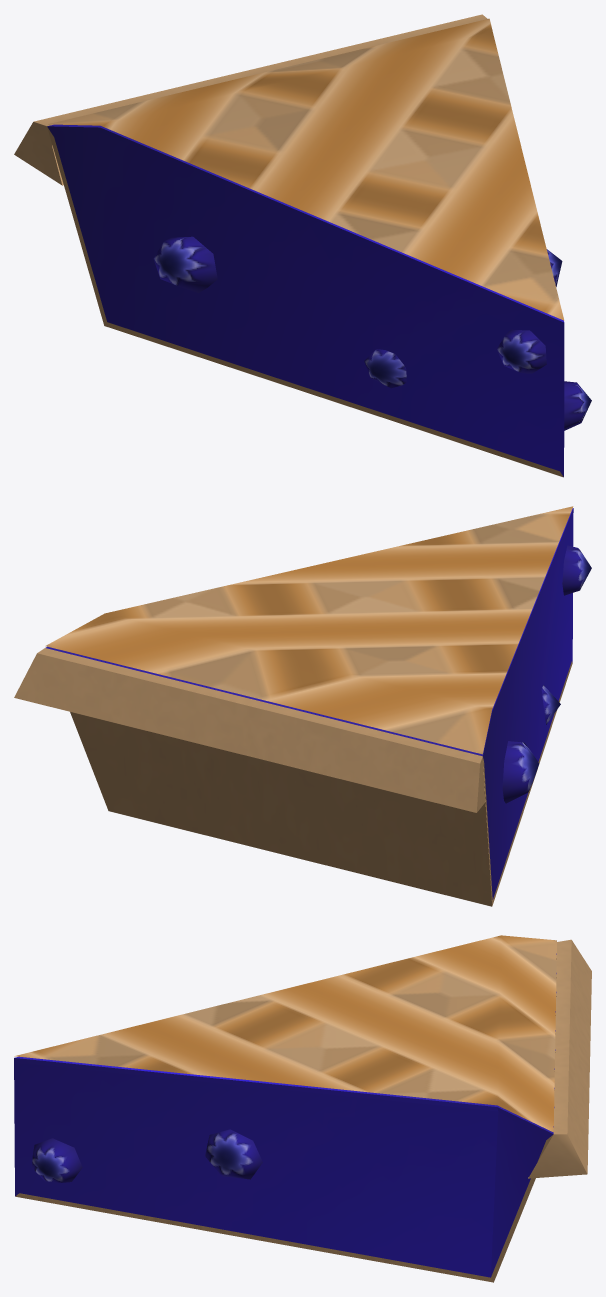
File: Slice_Of_Pie_B_3.FBX
The picture shows the model from 3 angles, top to bottom: view 1: azimuth 30°, elevation 25°; view 2: azimuth 150°, elevation 25°; view 3: azimuth 270°, elevation 25°; orthographic projection. The views are drawn at different scales.
Parts seen in each view (by area): view 1: Slice_Of_PieB; view 2: Slice_Of_PieB; view 3: Slice_Of_PieB.
Part boxes in pixels (x1=…): Slice_Of_PieB: x1=14, y1=14, x2=591, y2=477; Slice_Of_PieB: x1=14, y1=506, x2=591, y2=906; Slice_Of_PieB: x1=14, y1=935, x2=591, y2=1282.
Size of the model in its own units: 44.51 by 18.17 by 53.51.
